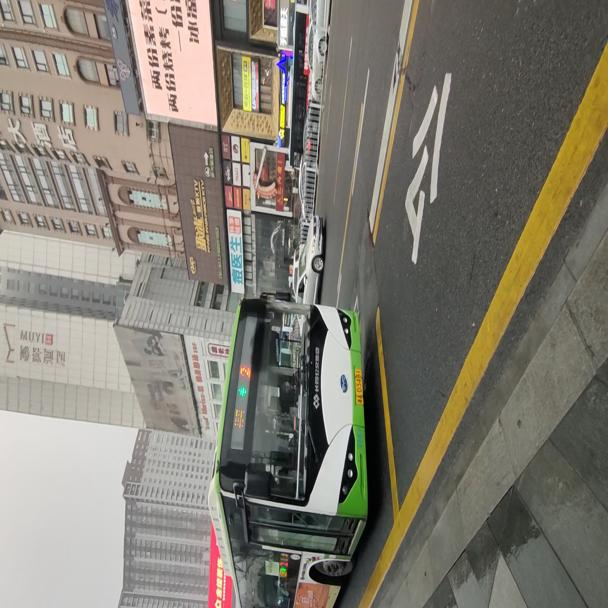bus: (204, 293, 373, 604)
screen: (238, 361, 250, 378)
